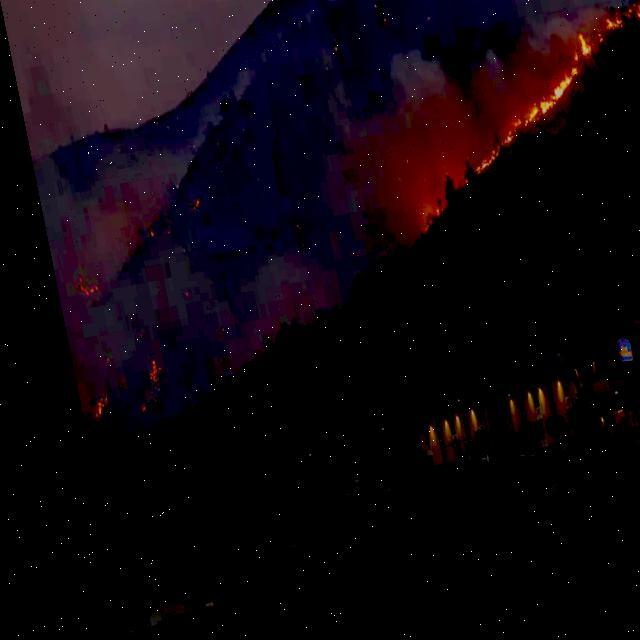Fire: (458, 135, 520, 192), (516, 86, 576, 140), (594, 30, 639, 54), (64, 271, 88, 300), (408, 222, 432, 248), (72, 397, 92, 420), (572, 52, 588, 78), (130, 361, 145, 384)
